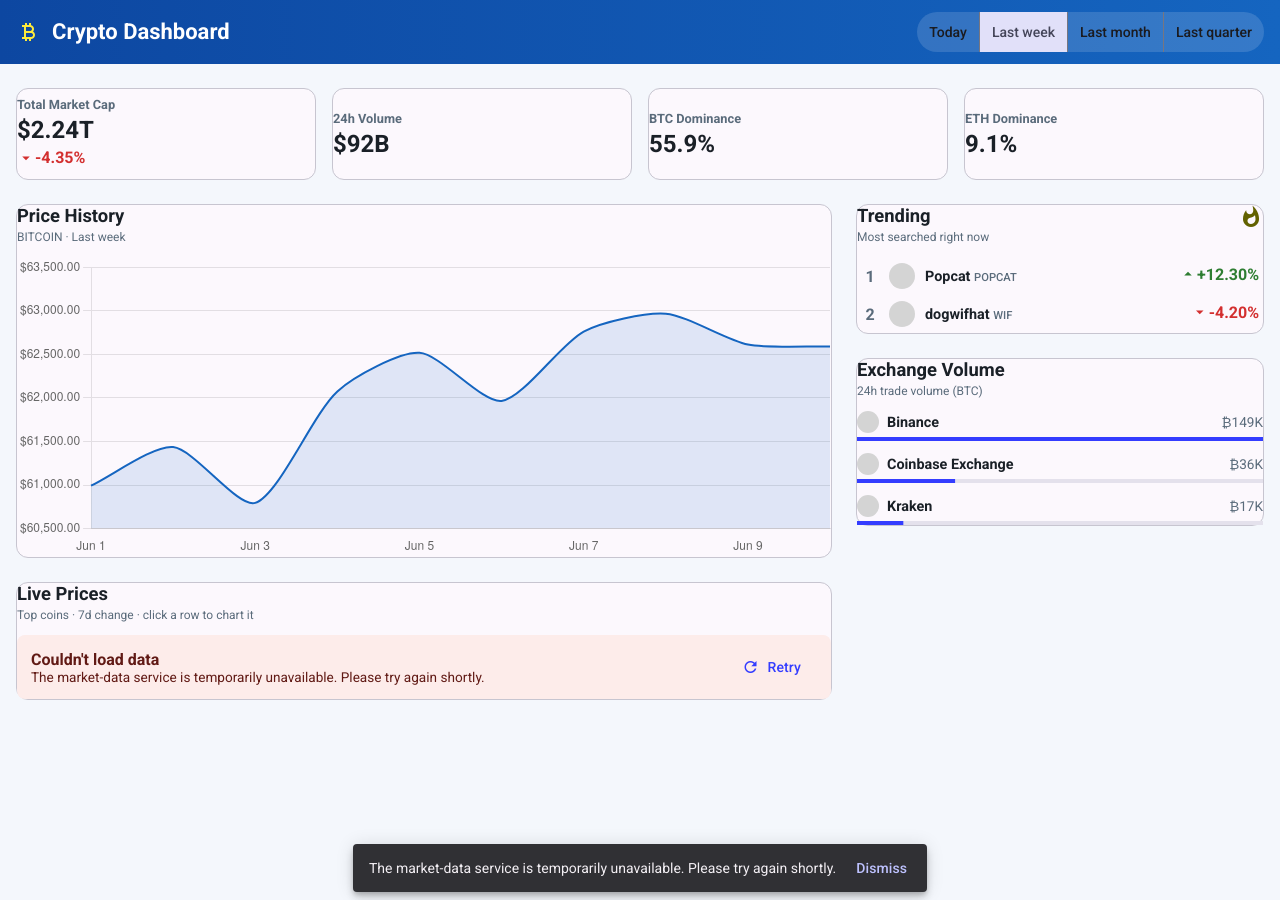
Test case: Crypto Dashboard — sad paths › recovers when the user clicks Retry and the request succeeds
Check: the text "Couldn't load data" is shown, box [31, 650, 159, 668]
Click the button "Retry": click(774, 667) [730, 647, 817, 687]
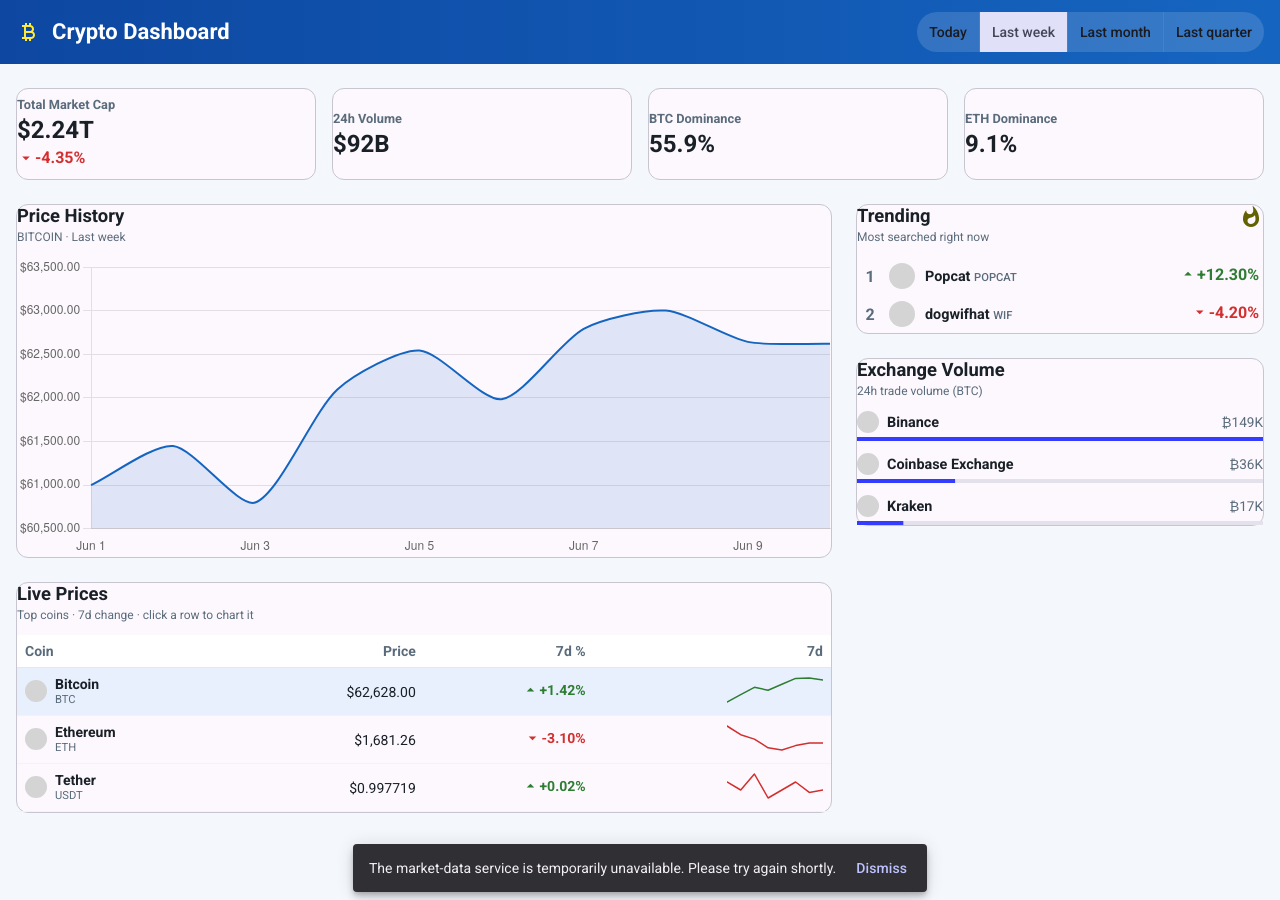
Check: the text "Bitcoin" is shown, box [55, 676, 99, 692]
Check: the text "Couldn't load data" is gone
